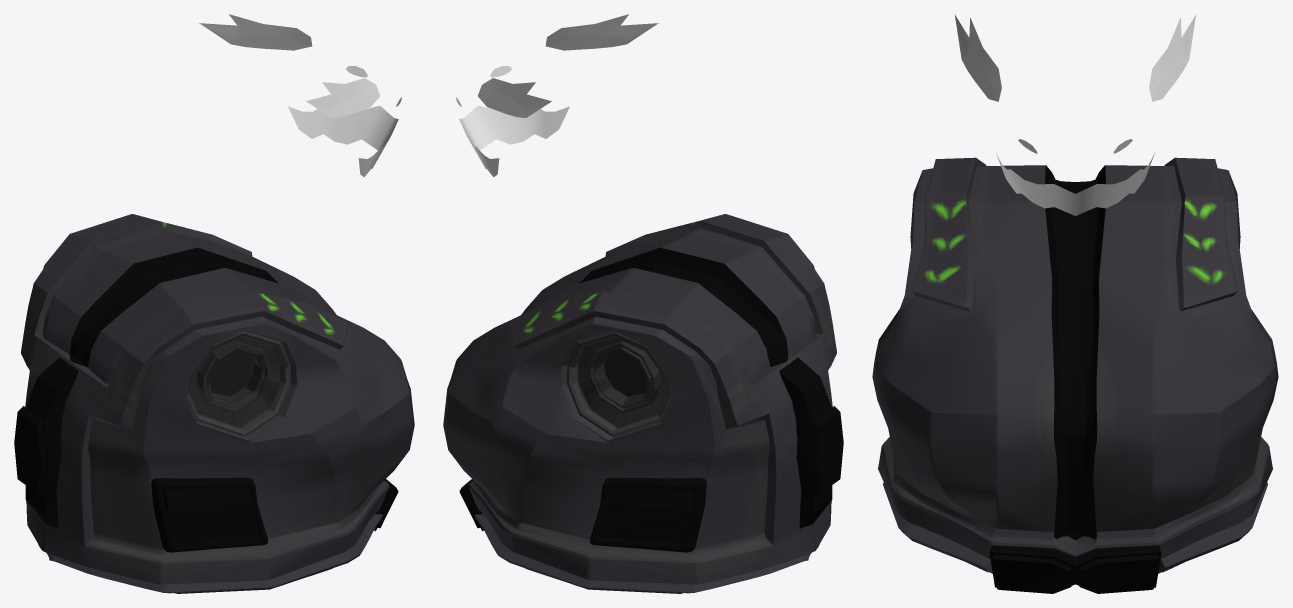
File: AS_DiagF_MOuthOH.fbx
3 views of the same model, side by side, from view 1: azimuth 30°, elevation 25°; view 2: azimuth 150°, elevation 25°; view 3: azimuth 270°, elevation 25° (orthographic). The views are drawn at different scales.
Parts seen in each view (by area): view 1: Chest_armor, Face; view 2: Chest_armor, Face; view 3: Chest_armor, Face.
Boxes of the visible parts, <box> form: Chest_armor: <box>14,214,414,593</box>; Face: <box>199,14,401,177</box>; Chest_armor: <box>443,214,843,593</box>; Face: <box>456,14,658,177</box>; Chest_armor: <box>872,157,1278,593</box>; Face: <box>955,15,1195,215</box>.
Size of the model in its own units: 31.51 by 26.77 by 38.9.
